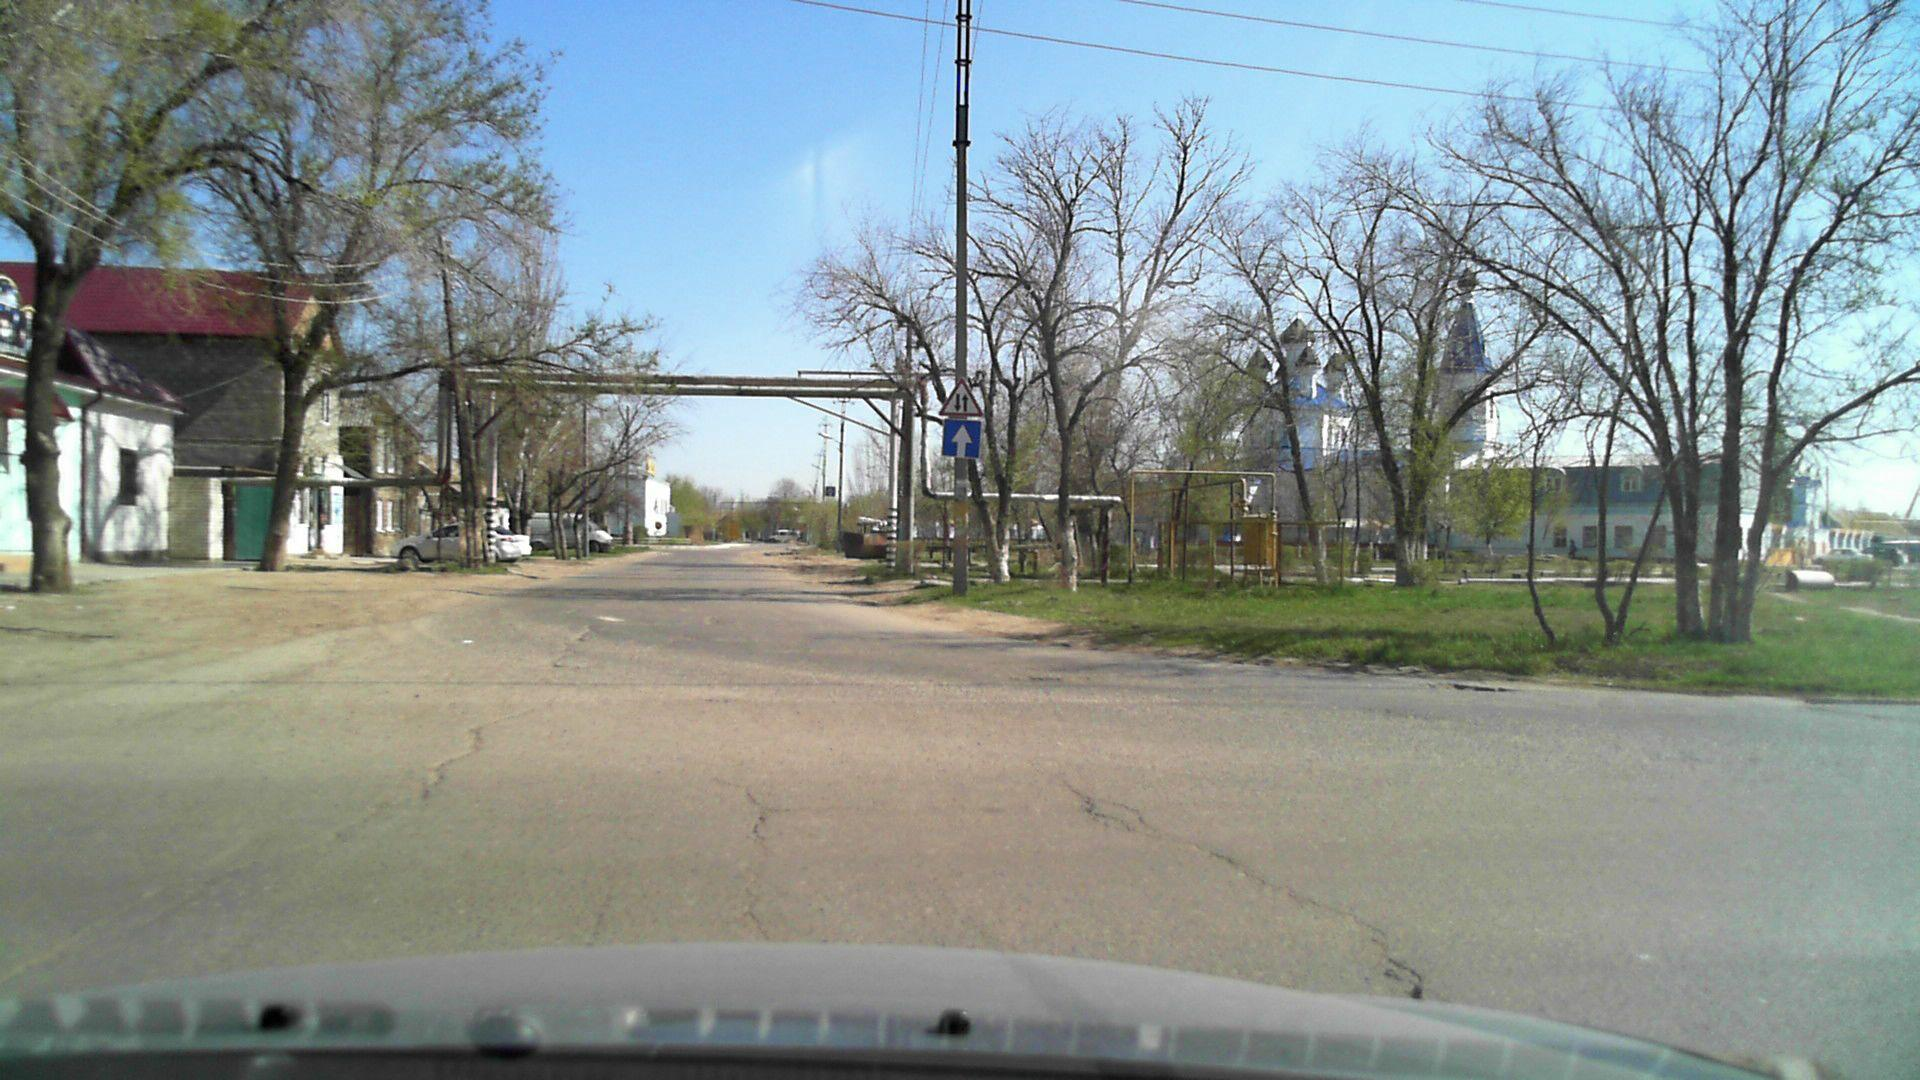1_21: (937, 372, 984, 420)
5_5: (940, 421, 983, 461)
5_6: (823, 485, 836, 500)
